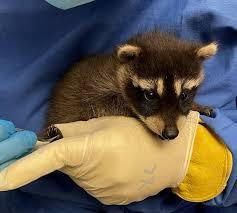raccoon: (16, 18, 228, 155)
